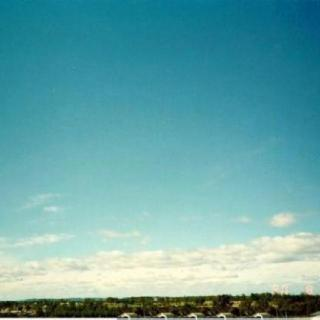Cirrostratus: (0, 0, 320, 298)
